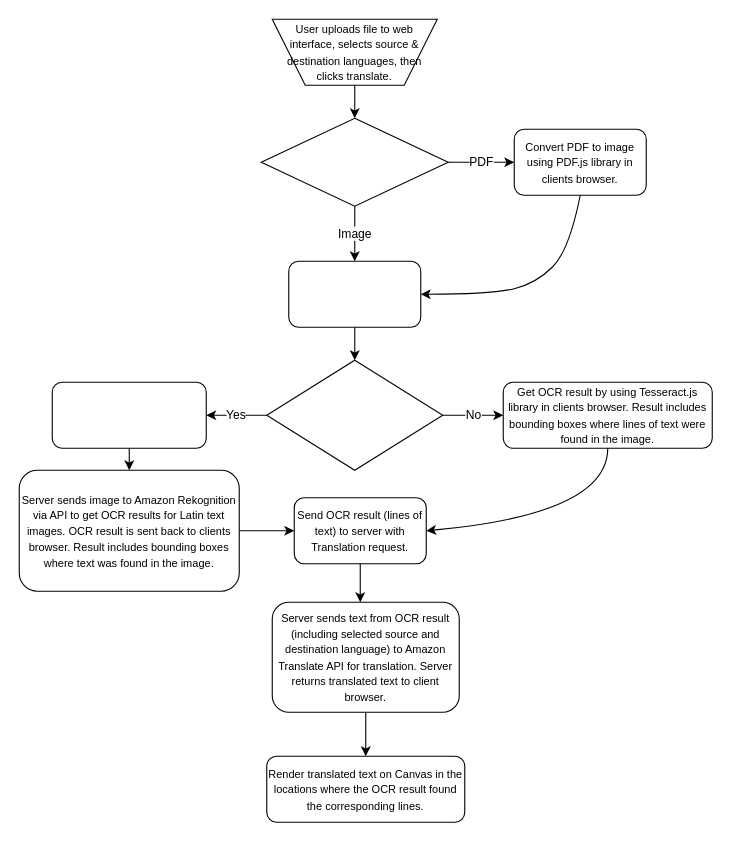
Image size: 732x842. Some labels were removed from this diagram. The box of each missing label's shape, as (x1, y1, x2, y2) in pixels:
Did the user select a Latin-text language?: (266, 359, 443, 470)
Is image or PDF?: (260, 117, 448, 206)
Scale image & render in Canvas element on page.: (288, 260, 421, 327)
Send image to server, requesting Amazon Rekognition OCR result.: (51, 381, 206, 448)
